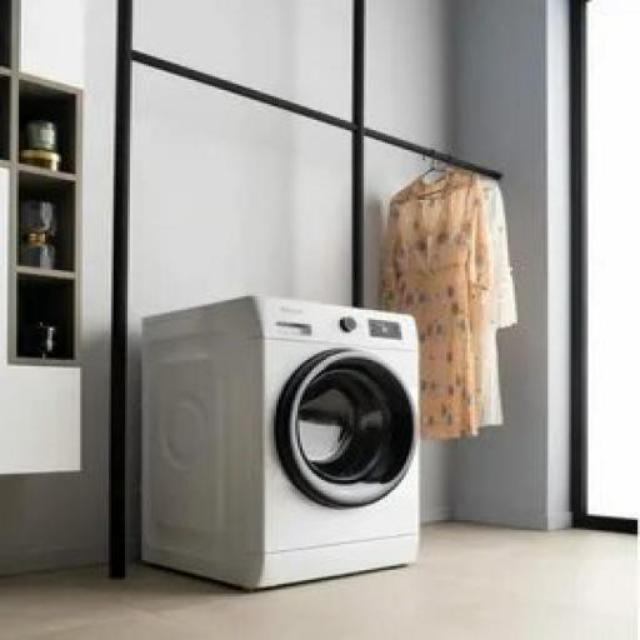Washing-Machine: (142, 295, 418, 573)
